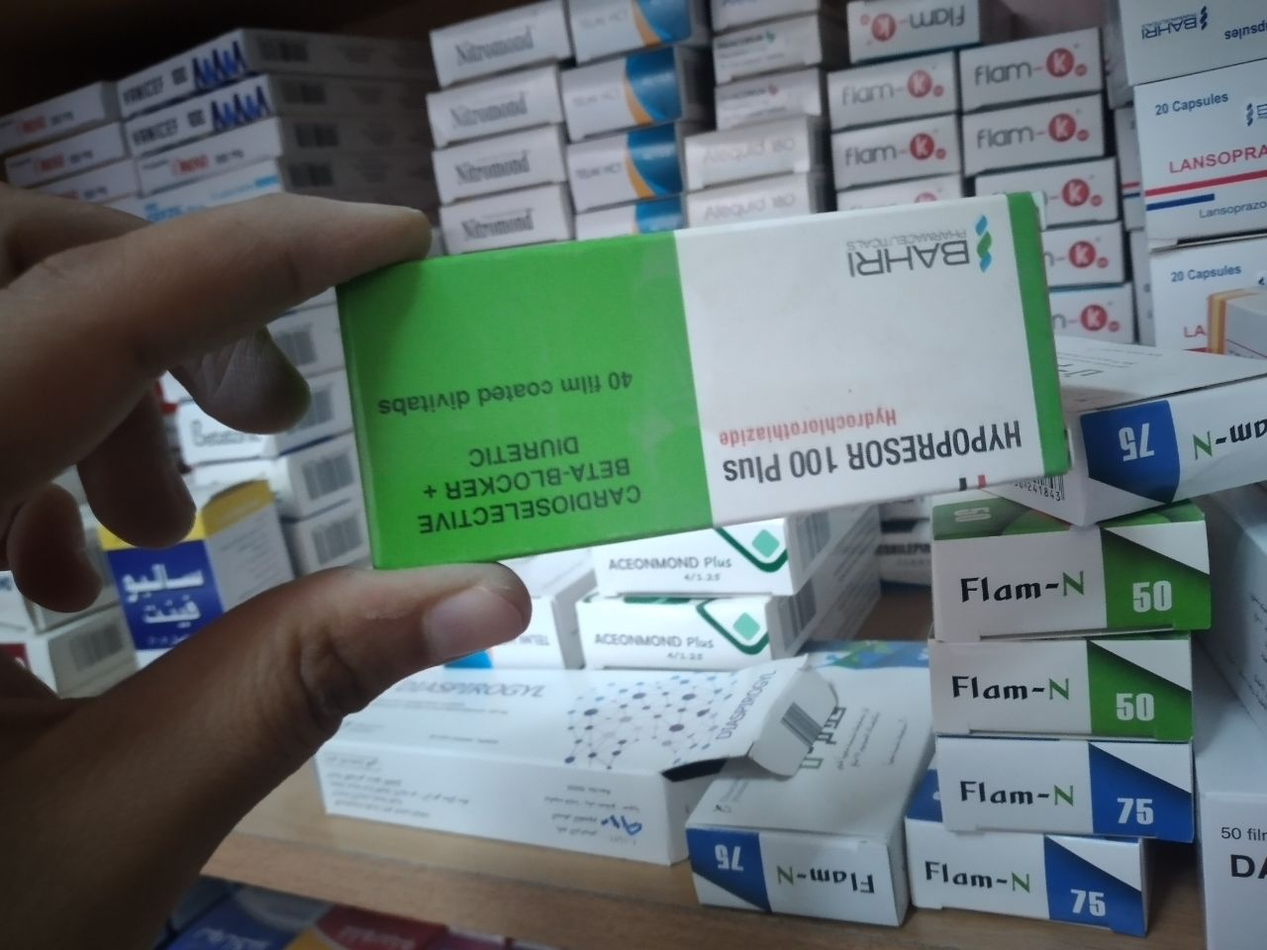Medicine: (309, 193, 1096, 579), (334, 663, 752, 873), (688, 611, 958, 933), (933, 500, 1230, 656), (111, 15, 371, 126), (908, 816, 1158, 928), (943, 633, 1215, 732), (926, 737, 1205, 831), (119, 69, 413, 158), (1094, 366, 1267, 510), (1133, 87, 1267, 203), (431, 7, 572, 94), (423, 69, 567, 151), (963, 30, 1076, 129), (436, 126, 572, 205), (438, 188, 577, 252), (975, 101, 1106, 168)
